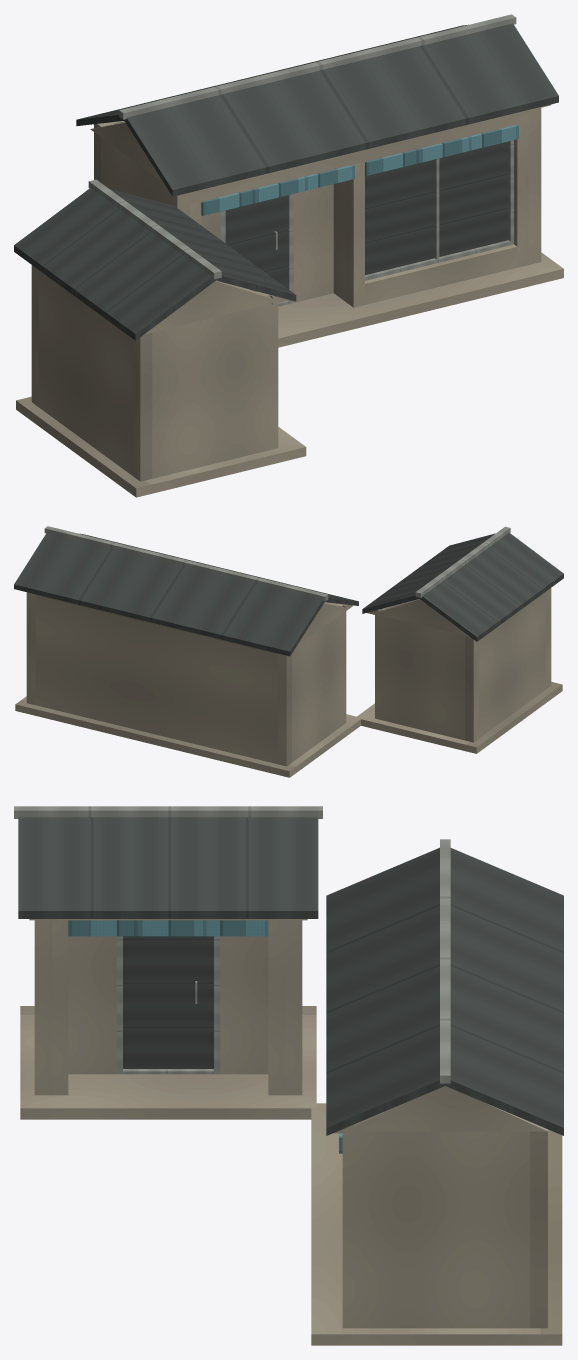
File: san-salvador.glb
3 renders of one model, top to bottom at view 1: azimuth 30°, elevation 25°; view 2: azimuth 150°, elevation 25°; view 3: azimuth 270°, elevation 25°, orthographic. The views are drawn at different scales.
Visible parts, largest first — view 1: san-salvador; view 2: san-salvador; view 3: san-salvador.
Boxes of the visible parts, box(x1,y1,x2,y2) form: san-salvador: box(14, 14, 563, 497); san-salvador: box(14, 526, 563, 777); san-salvador: box(14, 806, 563, 1345).
Size of the model in its own units: 8.6 by 3.3 by 6.03.
1 material, 1 textured.
